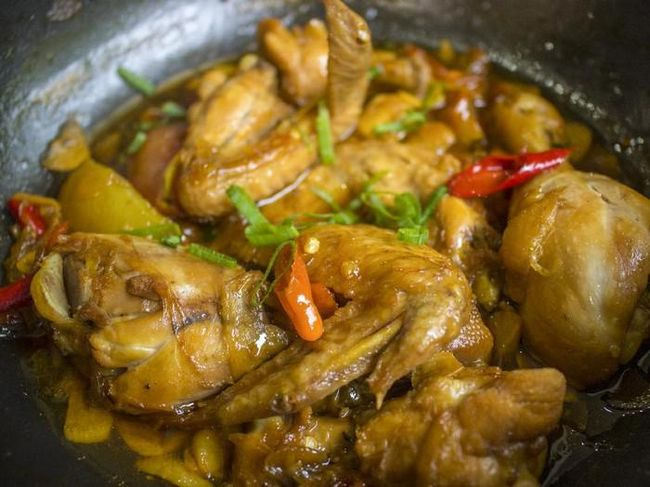Ayam: (466, 64, 645, 360), (150, 30, 378, 217), (259, 231, 484, 418), (43, 223, 270, 399)
